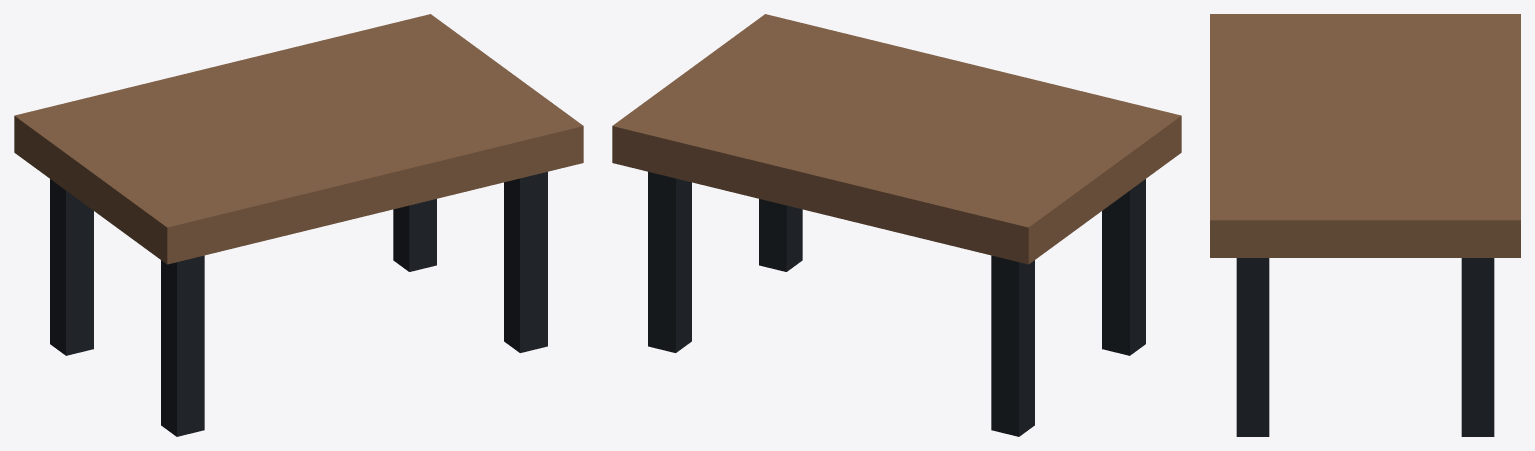
Rendered from table.glb.
3 views of the same model, side by side, from view 1: azimuth 30°, elevation 25°; view 2: azimuth 150°, elevation 25°; view 3: azimuth 270°, elevation 25° (orthographic).
Bounding box in the file's own units: 1.65 × 0.85 × 1.05.
